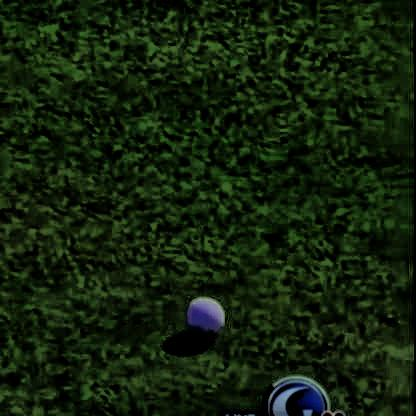golfball: (183, 294, 222, 333)
